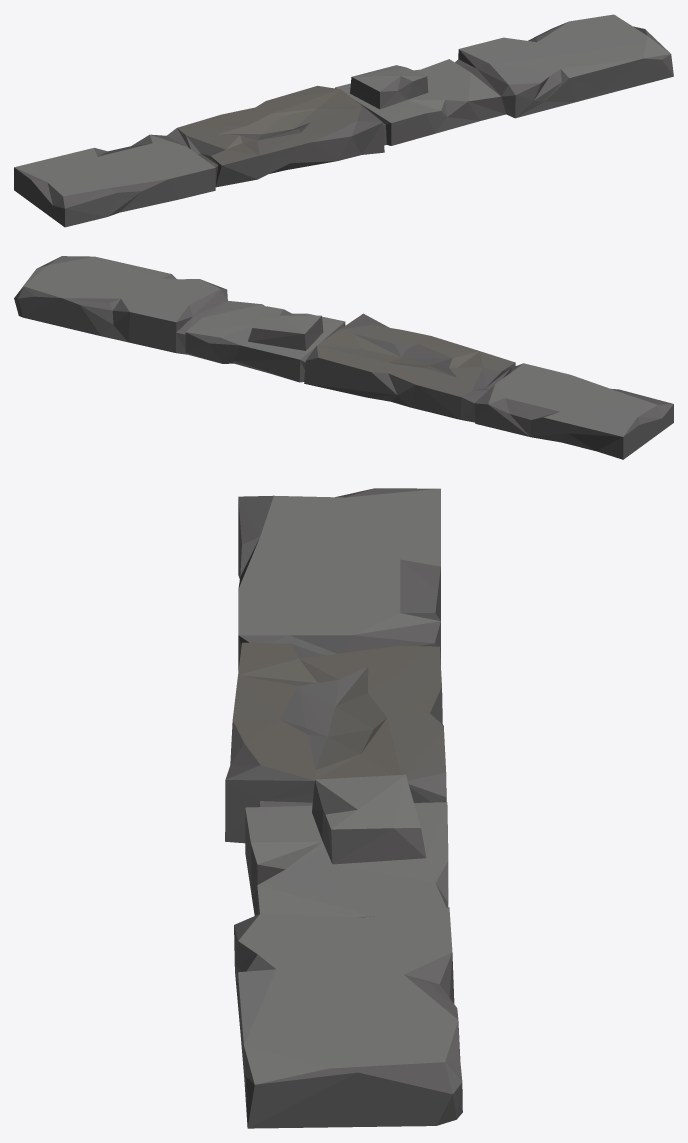
File: SM_Env_Wall_Trim_Floor_01.glb
The picture shows the model from 3 angles, top to bottom: view 1: azimuth 30°, elevation 25°; view 2: azimuth 150°, elevation 25°; view 3: azimuth 270°, elevation 25°; orthographic projection. The views are drawn at different scales.
Parts seen in each view (by area): view 1: SM_Env_Wall_Trim_Floor_01; view 2: SM_Env_Wall_Trim_Floor_01; view 3: SM_Env_Wall_Trim_Floor_01.
Boxes of the visible parts, x1,y1,x2,y2 form: SM_Env_Wall_Trim_Floor_01: (14, 14, 673, 227); SM_Env_Wall_Trim_Floor_01: (14, 256, 673, 459); SM_Env_Wall_Trim_Floor_01: (225, 488, 462, 1128).
Size of the model in its own units: 0.0496 by 0.00324 by 0.00838.
1 material, 1 textured.
